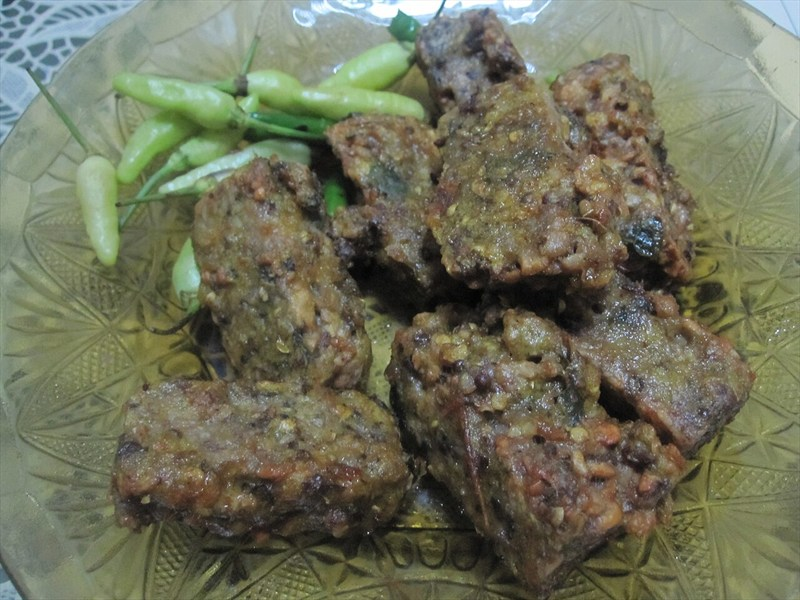Tempe Goreng: (137, 29, 698, 556)
